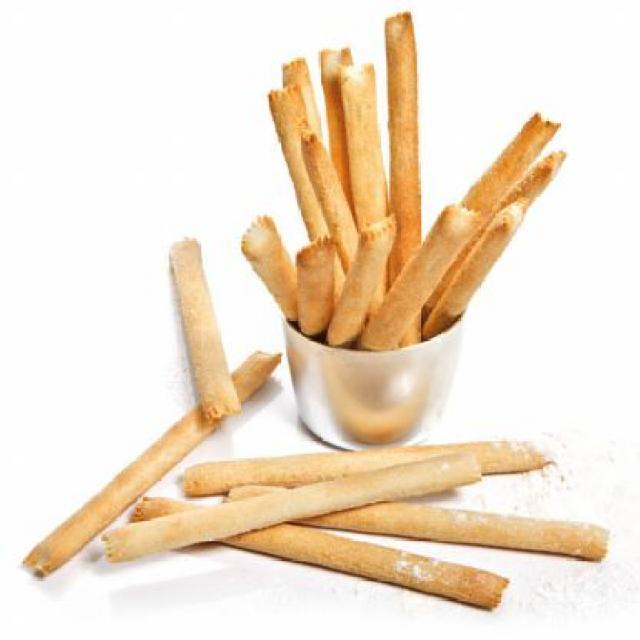Grissini: (240, 9, 564, 353), (98, 452, 616, 614), (168, 238, 250, 420)
